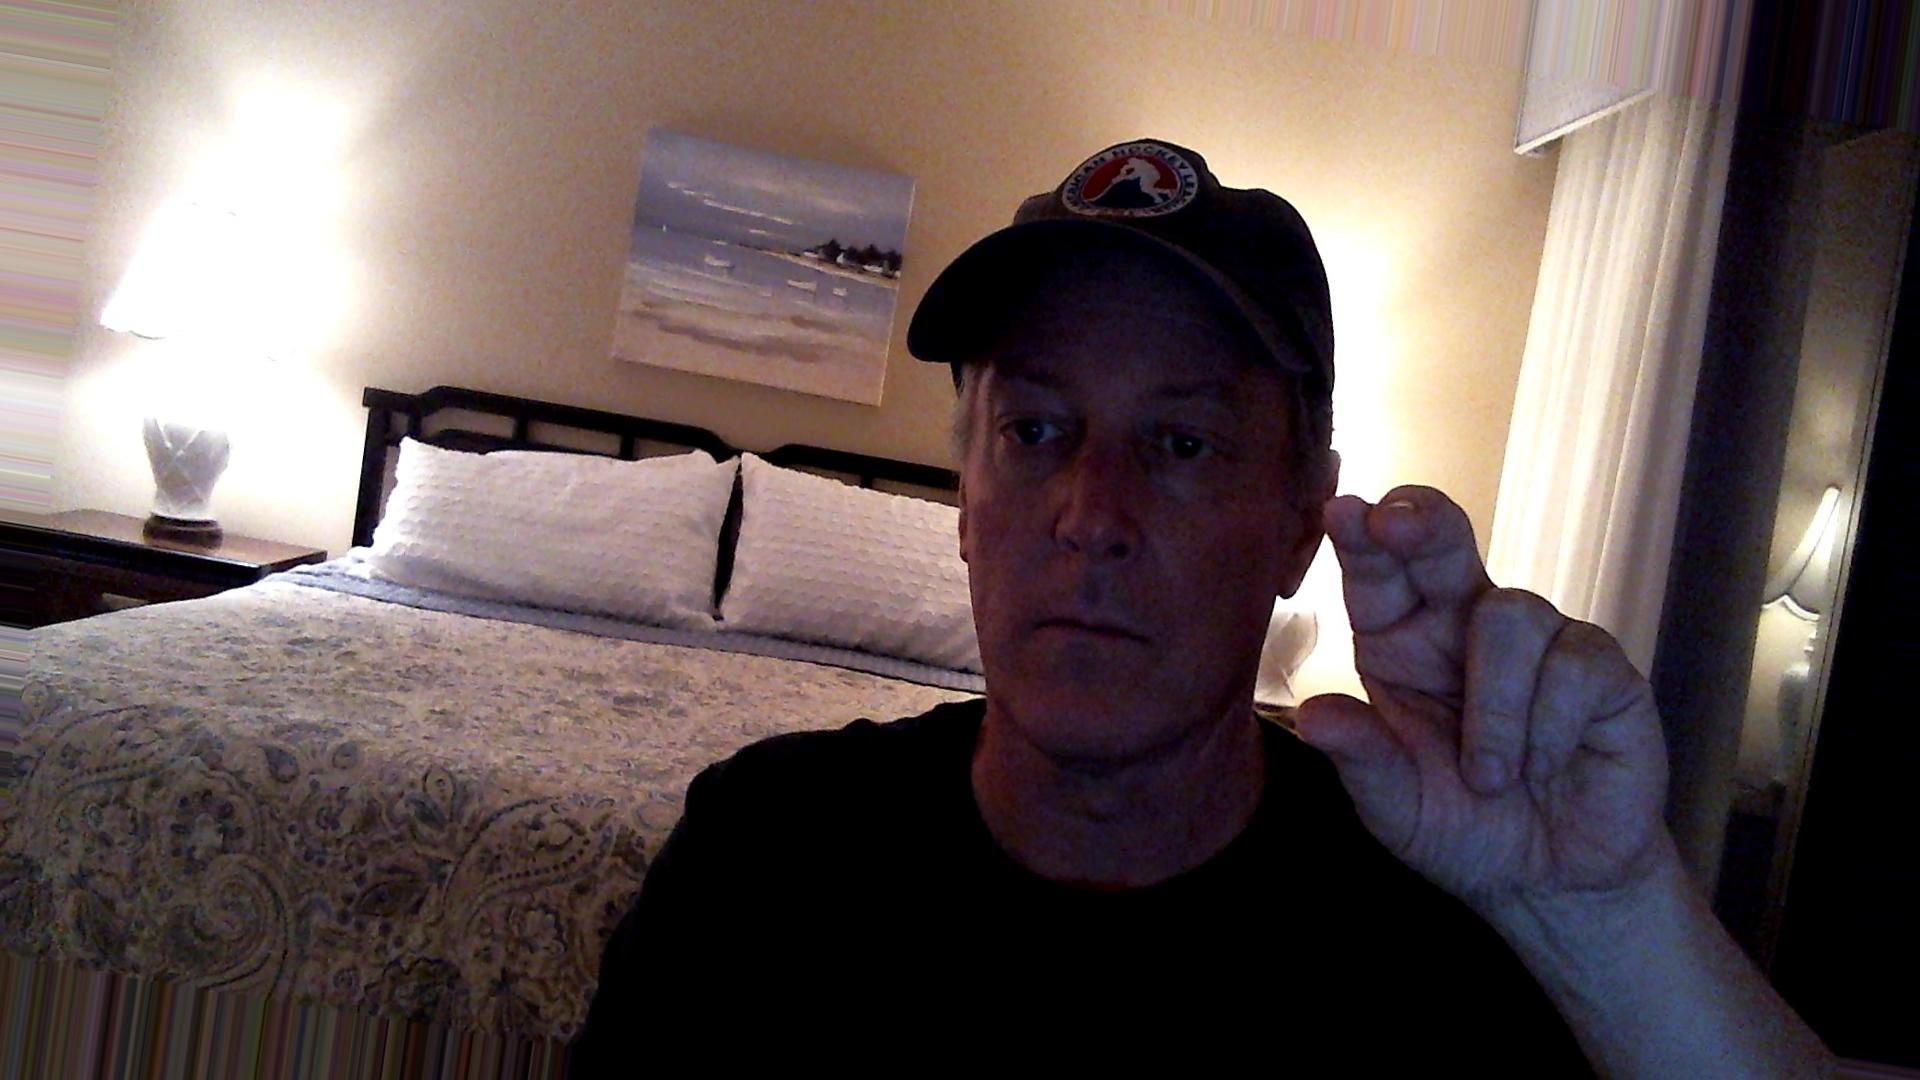No: (1270, 480, 1706, 909)
